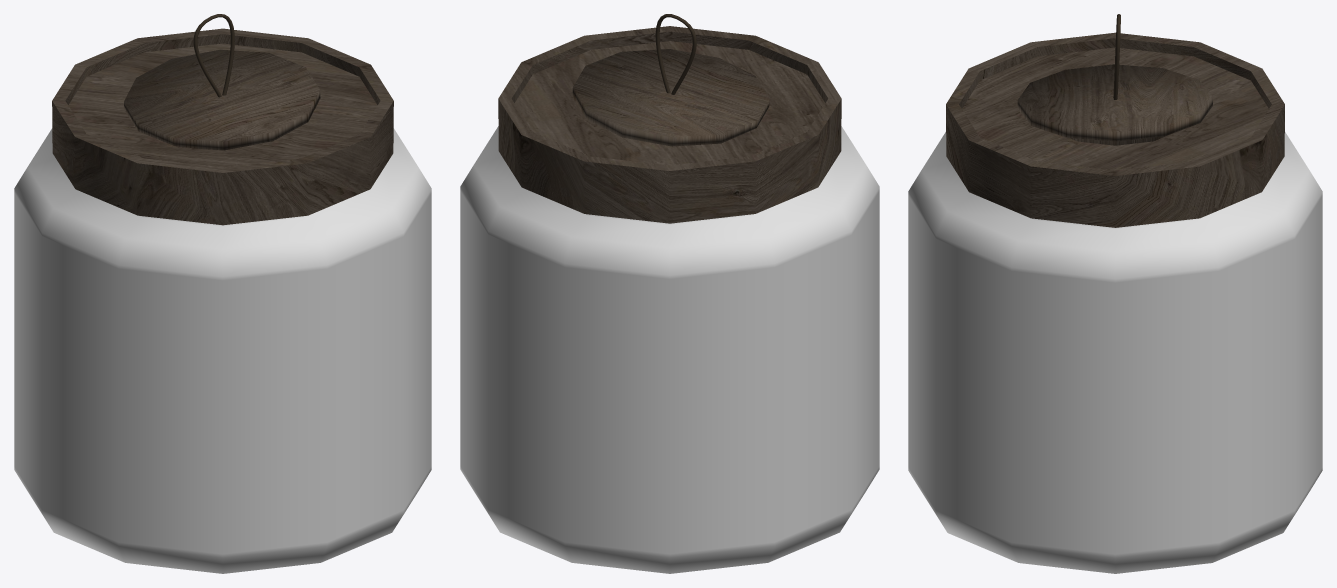
Rendered from honey_new.glb.
3 renders of one model, left to right at view 1: azimuth 30°, elevation 25°; view 2: azimuth 150°, elevation 25°; view 3: azimuth 270°, elevation 25°, orthographic.
Parts seen in each view (by area): view 1: honey_pot.001, pot_cup, pot_small_cup, rope.001; view 2: honey_pot.001, pot_cup, pot_small_cup, rope.001; view 3: honey_pot.001, pot_cup, pot_small_cup.
Part boxes in pixels (box(x1,y1,x2,y2)): honey_pot.001: box(14, 128, 431, 573); pot_cup: box(52, 28, 393, 225); pot_small_cup: box(124, 49, 320, 150); rope.001: box(193, 14, 234, 97); honey_pot.001: box(460, 126, 879, 573); pot_cup: box(498, 26, 841, 223); pot_small_cup: box(572, 49, 769, 146); rope.001: box(655, 14, 696, 94); honey_pot.001: box(908, 132, 1322, 573); pot_cup: box(946, 32, 1284, 227); pot_small_cup: box(1017, 64, 1212, 145).
Size of the model in its own units: 0.1168 by 0.1498 by 0.1168.
Materials: 4 (2 with a texture image).
